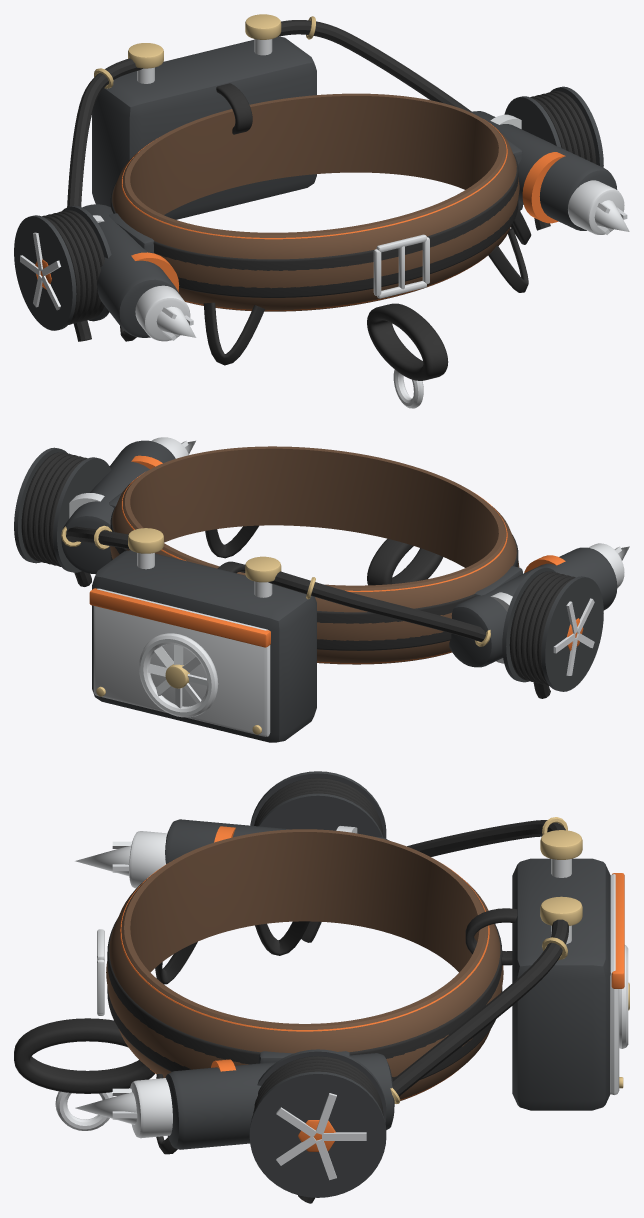
File: SM_Harness_Waist.fbx
The picture shows the model from 3 angles, top to bottom: view 1: azimuth 30°, elevation 25°; view 2: azimuth 150°, elevation 25°; view 3: azimuth 270°, elevation 25°; orthographic projection. The views are drawn at different scales.
Parts seen in each view (by area): view 1: SM_Harness_Waist; view 2: SM_Harness_Waist; view 3: SM_Harness_Waist.
Boxes of the visible parts, x1=… form: SM_Harness_Waist: x1=14, y1=14, x2=629, y2=408; SM_Harness_Waist: x1=14, y1=437, x2=629, y2=742; SM_Harness_Waist: x1=14, y1=771, x2=629, y2=1203.
Bounding box in the file's own units: 0.549 × 0.2175 × 0.468.
